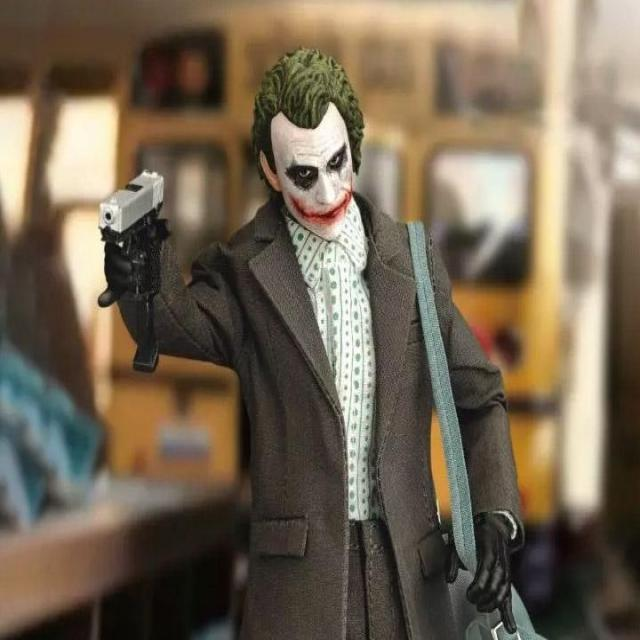gun: (100, 173, 162, 369)
